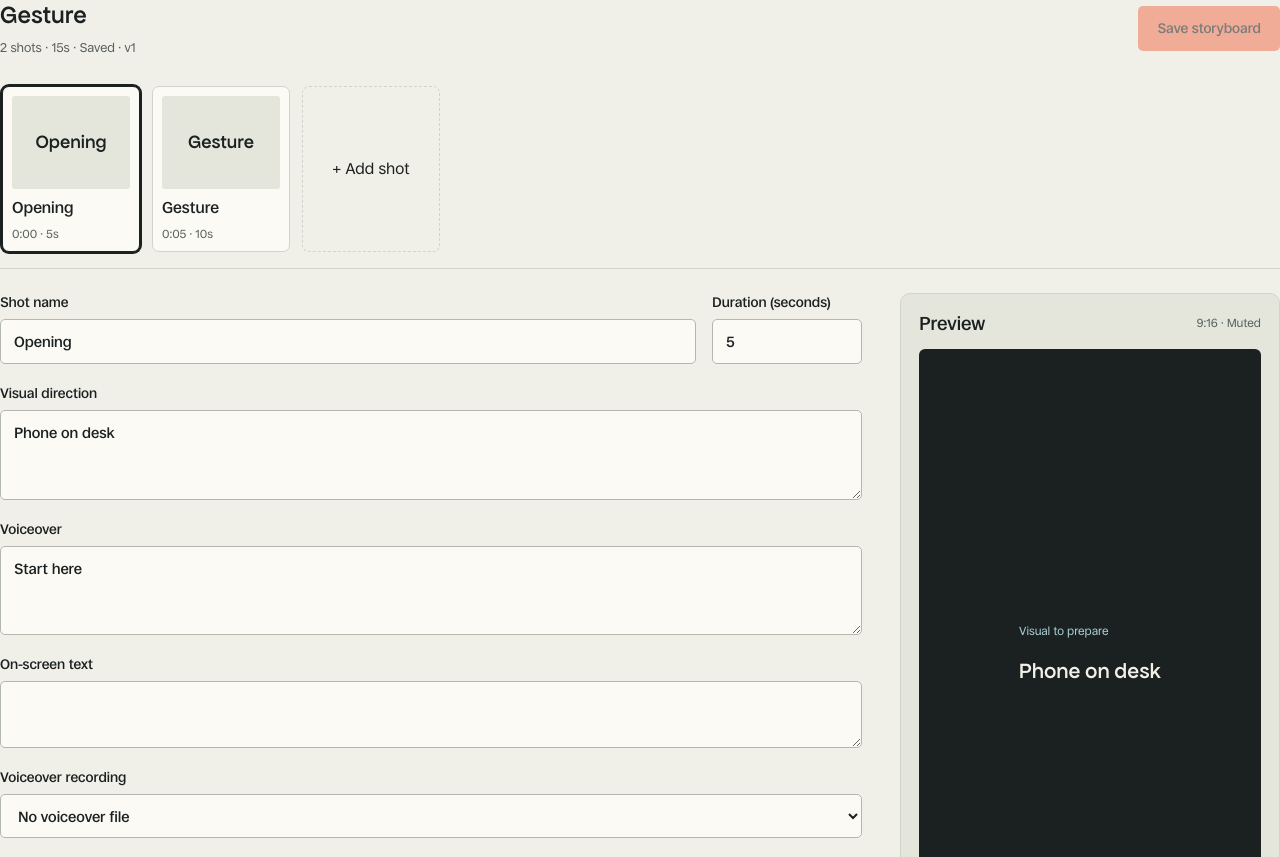
Test: replays the same payload after an unknown save outcome
Replace the text in the text box labelled "Voiceover" with "Local edit" at (431, 590), box top-left (0, 546), bottom-right (862, 635)
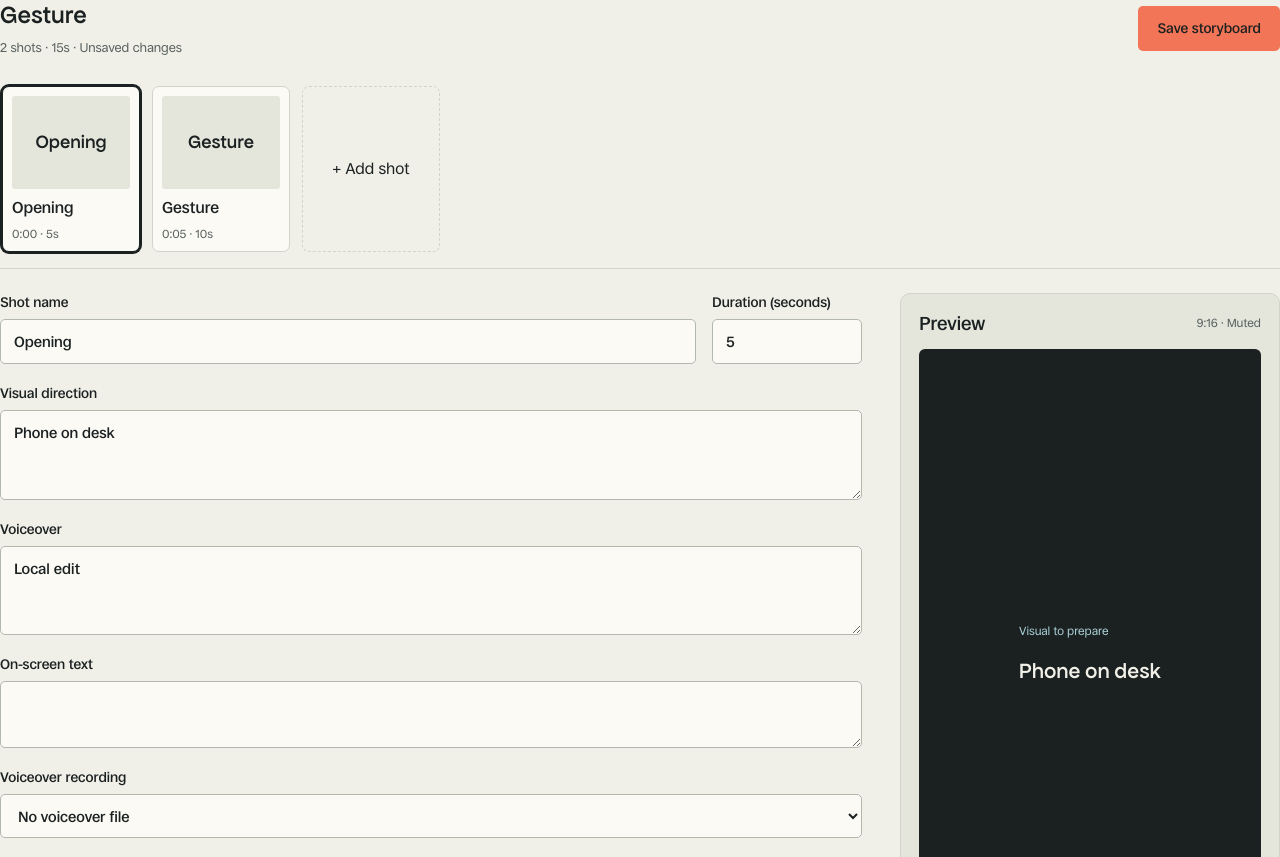
Click the button "Save storyboard" at (1209, 29), box top-left (1138, 6), bottom-right (1279, 51)
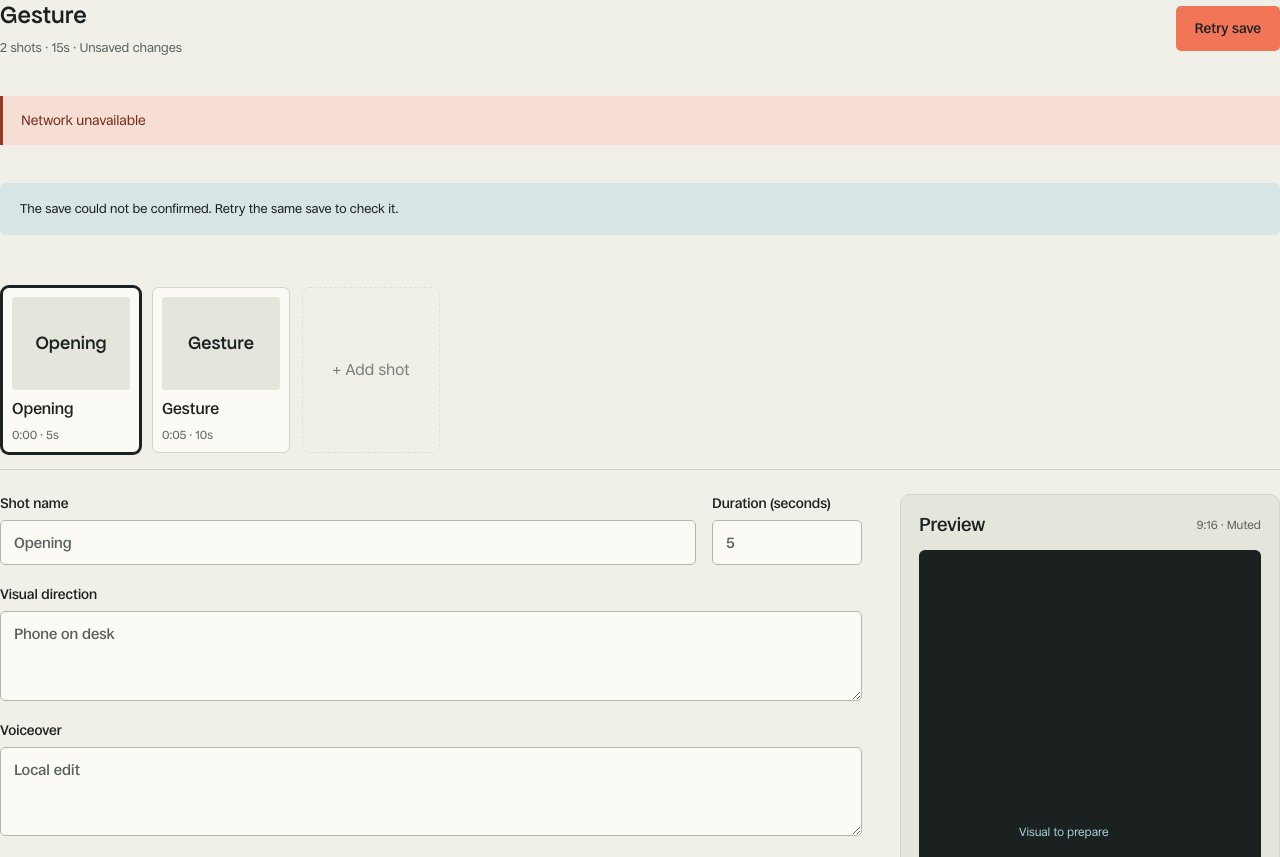
Click the button "Retry save" at (1228, 29), box top-left (1176, 6), bottom-right (1279, 51)
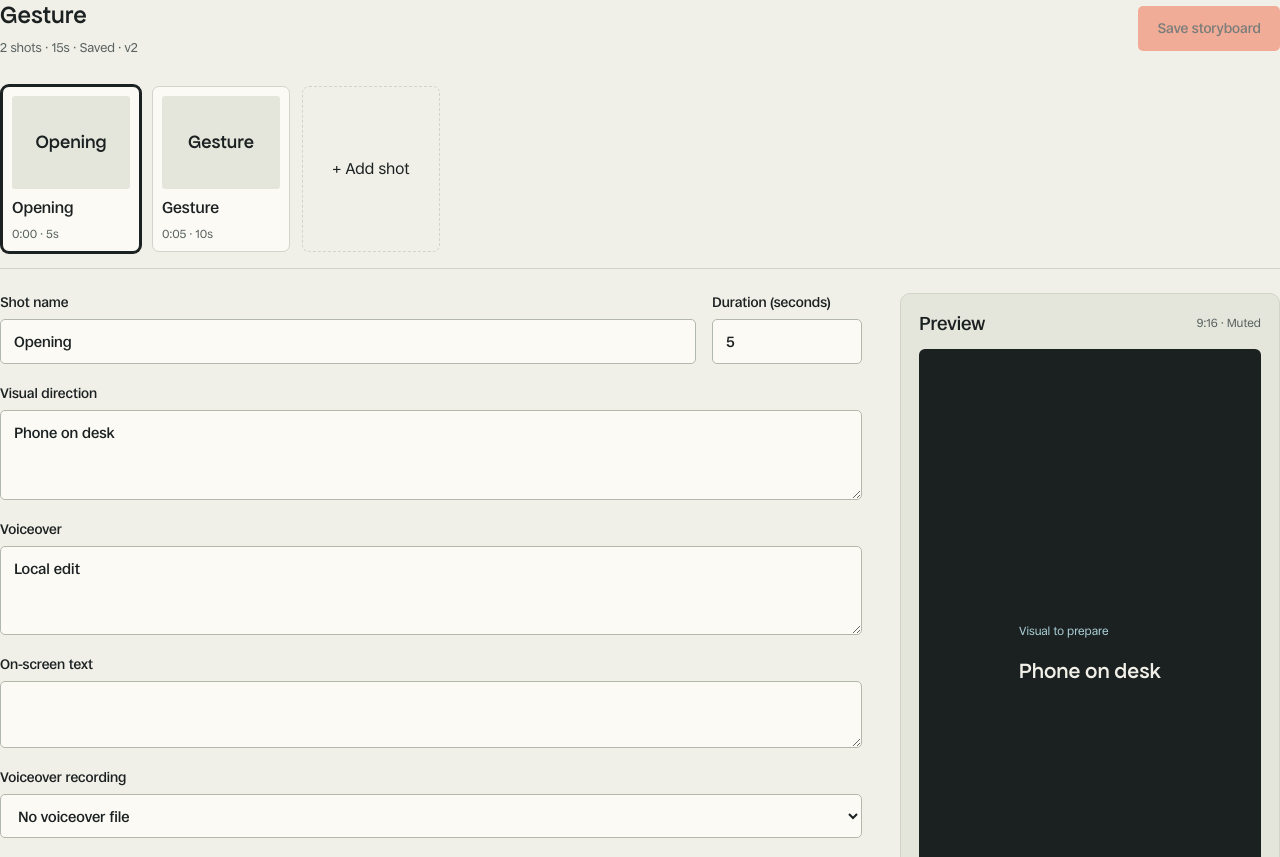
Expected: the text "2 shots · 15s · Saved · v2" is shown, top-left (0, 38), bottom-right (138, 58)
